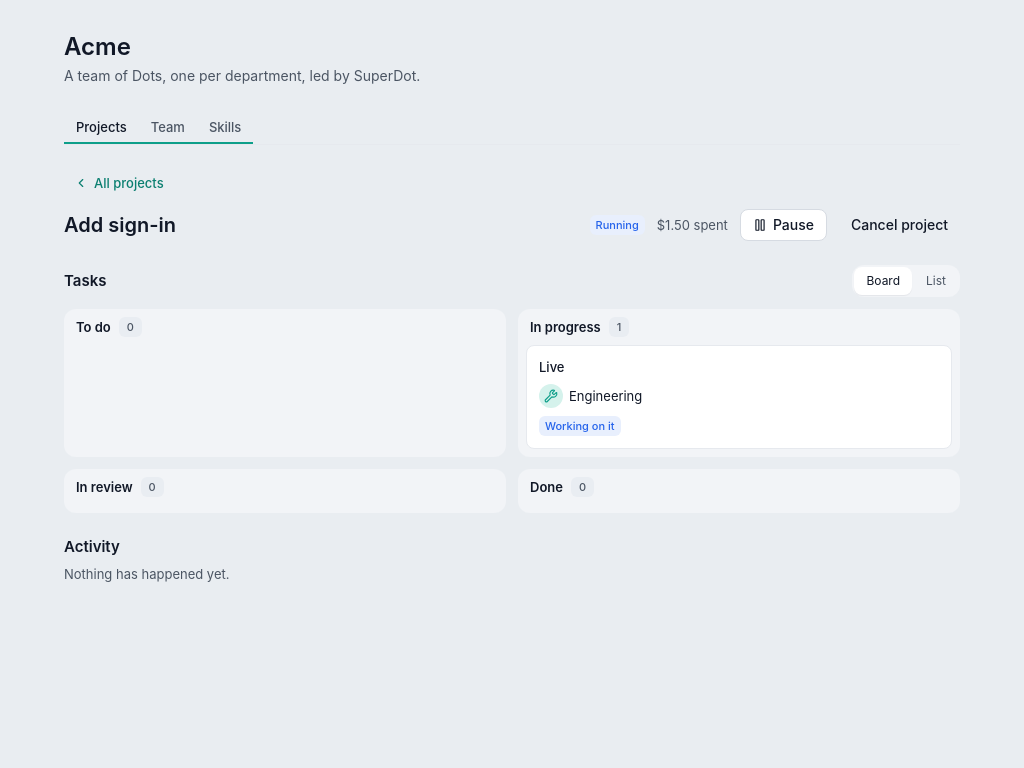
task drawer › follows live updates of the open task
The image size is (1024, 768).
What coordinates should you click on to do the following:
click the button "Live Engineering Working on it"
I would click on:
 (606, 396)
Its box is [526, 345, 952, 449].
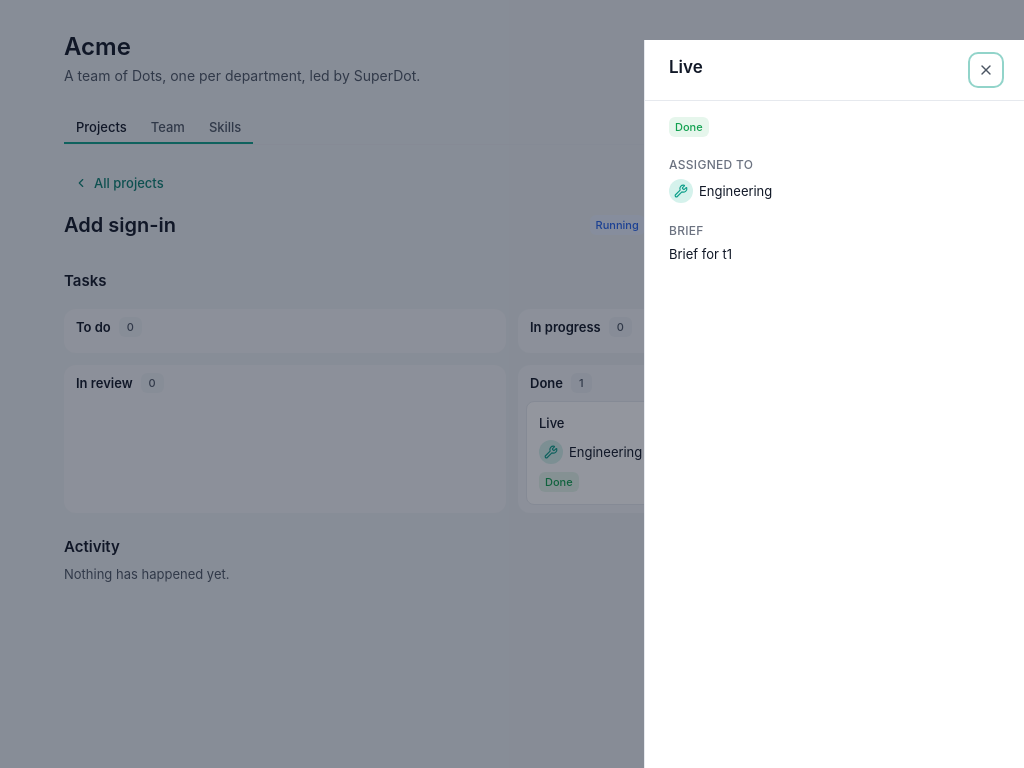
Expected: the text "Done" is shown, [669, 117, 709, 137]
